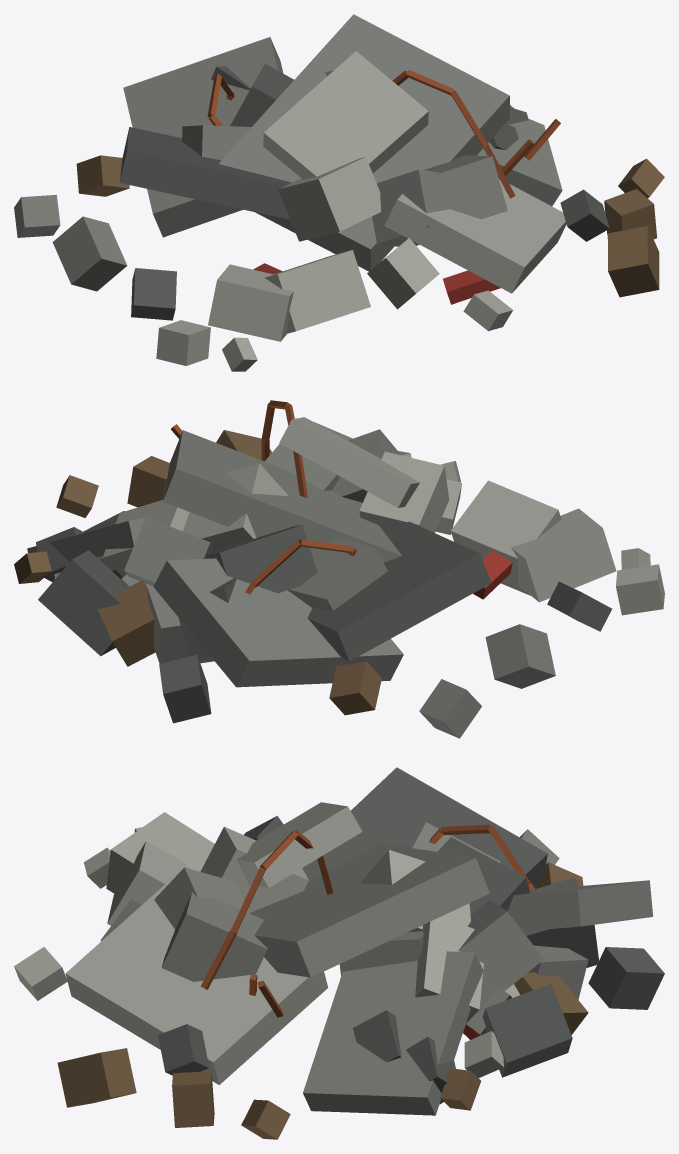
Rendered from rubble_pile.glb.
3 renders of one model, top to bottom at view 1: azimuth 30°, elevation 25°; view 2: azimuth 150°, elevation 25°; view 3: azimuth 270°, elevation 25°, orthographic. The views are drawn at different scales.
Visible parts, largest first — view 1: rubble_pile; view 2: rubble_pile; view 3: rubble_pile.
Boxes of the visible parts, x1,y1,x2,y2 form: rubble_pile: (14, 14, 664, 371); rubble_pile: (14, 400, 664, 738); rubble_pile: (14, 767, 664, 1139).
Size of what is drawn, in the model's own units: 2.84 by 0.9787 by 2.65.
2 materials, 2 textured.
